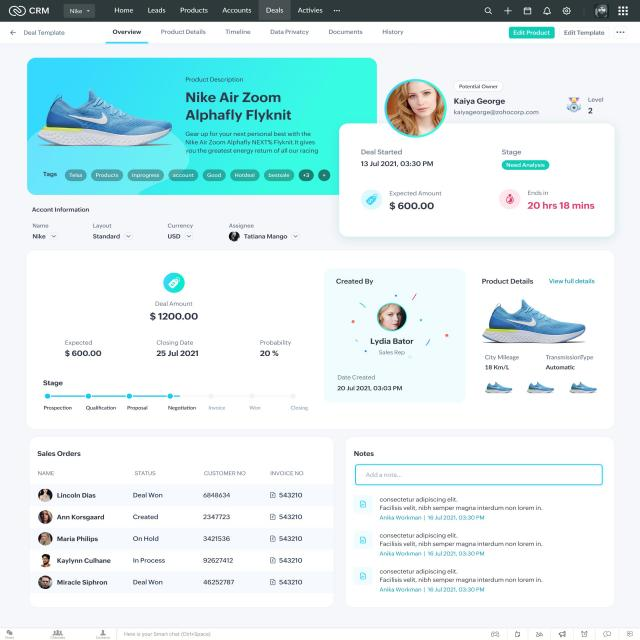button: (562, 26, 610, 39), (510, 26, 555, 38)
input: (354, 464, 603, 486)
select: (227, 230, 302, 242), (62, 3, 94, 19), (163, 231, 196, 241)
